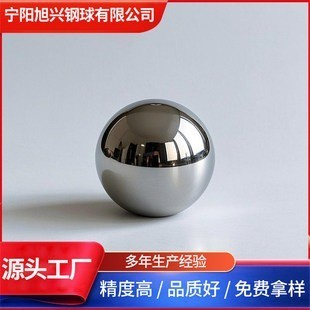ironball: (94, 98, 215, 217)
